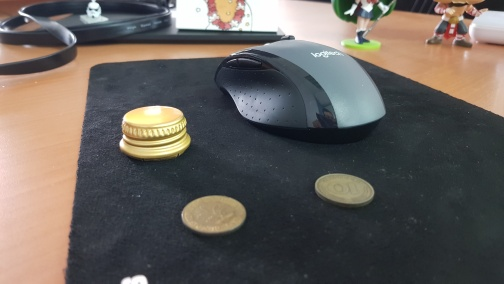coin: (180, 195, 248, 236), (314, 173, 376, 207)
